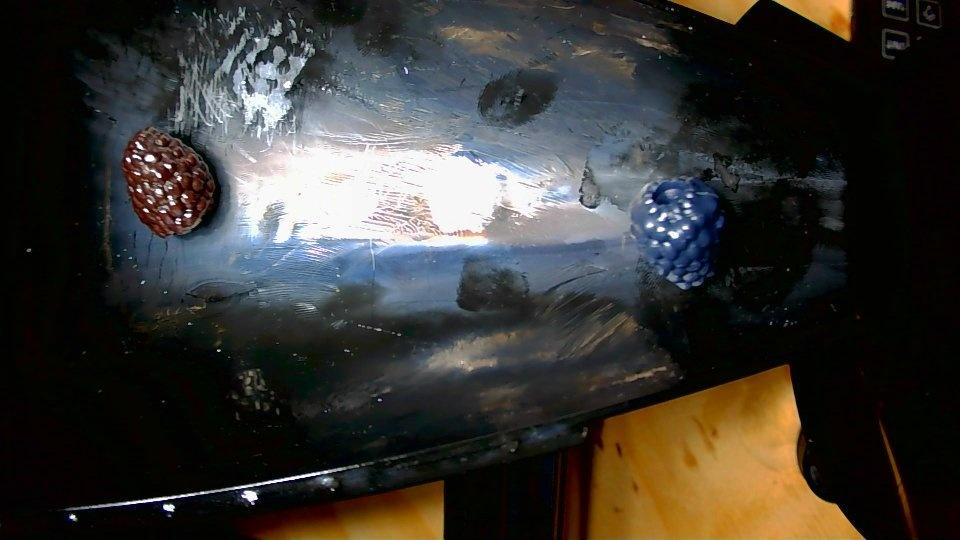berry: (631, 177, 725, 289), (121, 127, 216, 237)
